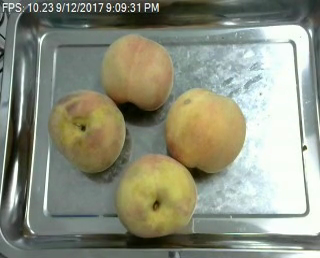Peach: (114, 154, 198, 237), (164, 88, 246, 173), (48, 89, 127, 173), (98, 32, 172, 110)
